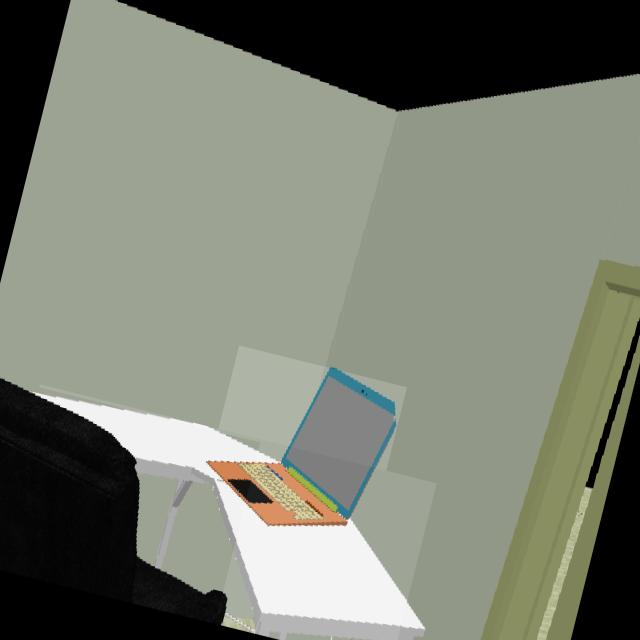chair: (0, 380, 217, 622)
laptop: (208, 368, 397, 536)
table: (36, 396, 407, 640)
